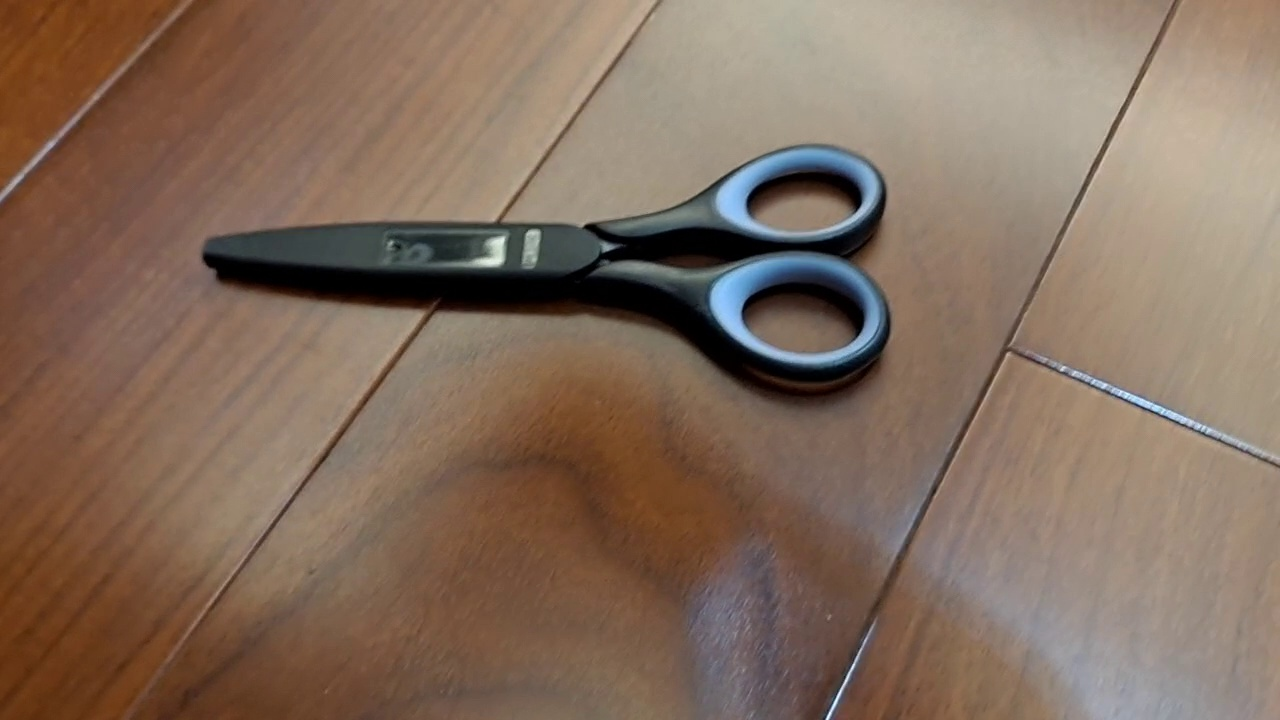scissors: (200, 140, 892, 386)
